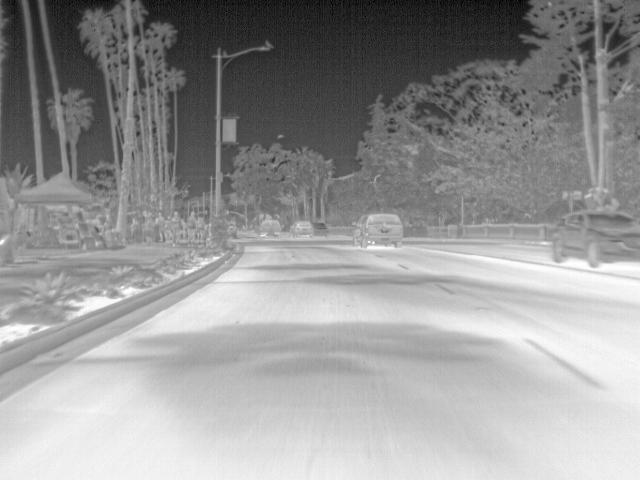car: (548, 209, 640, 265), (350, 212, 405, 247), (259, 218, 286, 237), (291, 218, 314, 236), (315, 222, 331, 238)
person: (168, 209, 184, 245), (185, 209, 199, 245), (152, 211, 167, 243)
